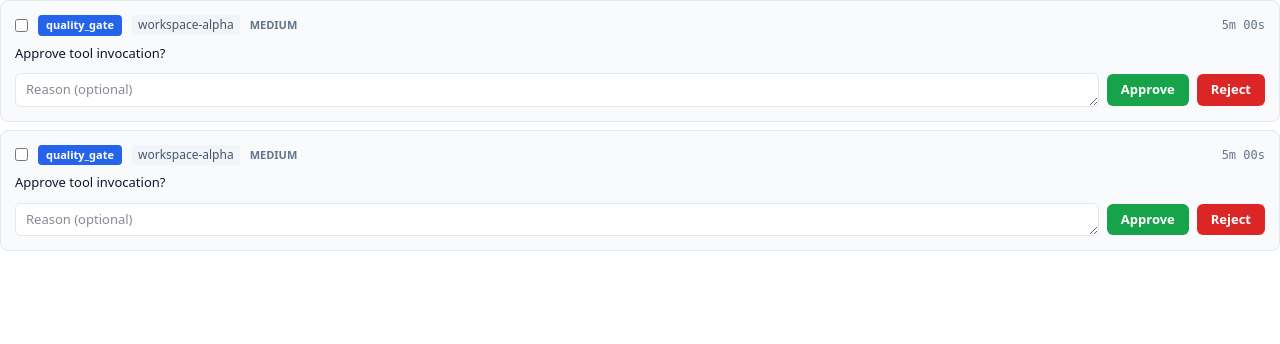
it: GateQueue › batch controls appear only after at least one gate is selected
The width and height of the screenshot is (1280, 344).
expect the text "Approve Selected" is not shown: met
What coordinates should you click on to do the following:
click the 1st checkbox
I would click on:
 (22, 25)
Its box is [15,19,28,32].
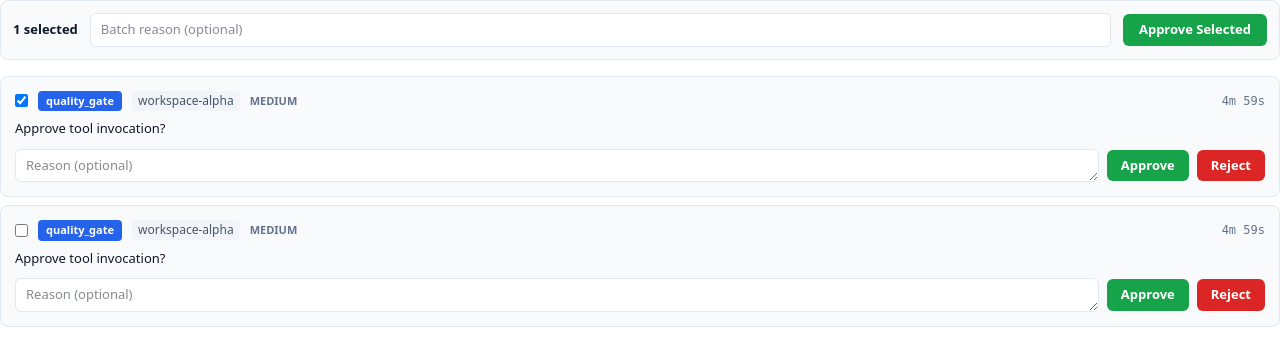
expect the button "Approve Selected" is shown: met, box [1123,14,1267,46]
expect the text "1 selected" is shown: met, box [13,20,78,40]
